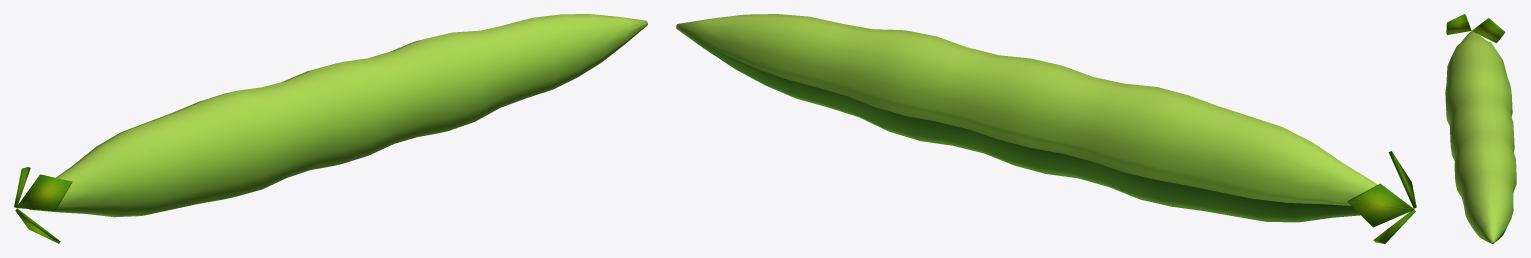
Rendered from NP_GreenBean_Harvest.fbx.
3 renders of one model, left to right at view 1: azimuth 30°, elevation 25°; view 2: azimuth 150°, elevation 25°; view 3: azimuth 270°, elevation 25°, orthographic. The views are drawn at different scales.
Parts seen in each view (by area): view 1: NP_GreenBean_Harvest; view 2: NP_GreenBean_Harvest; view 3: NP_GreenBean_Harvest.
Boxes of the visible parts, x1,y1,x2,y2 form: NP_GreenBean_Harvest: (14,14,647,243); NP_GreenBean_Harvest: (676,14,1416,243); NP_GreenBean_Harvest: (1445,14,1516,243).
Size of the model in its own units: 36.78 by 5.29 by 4.94.
